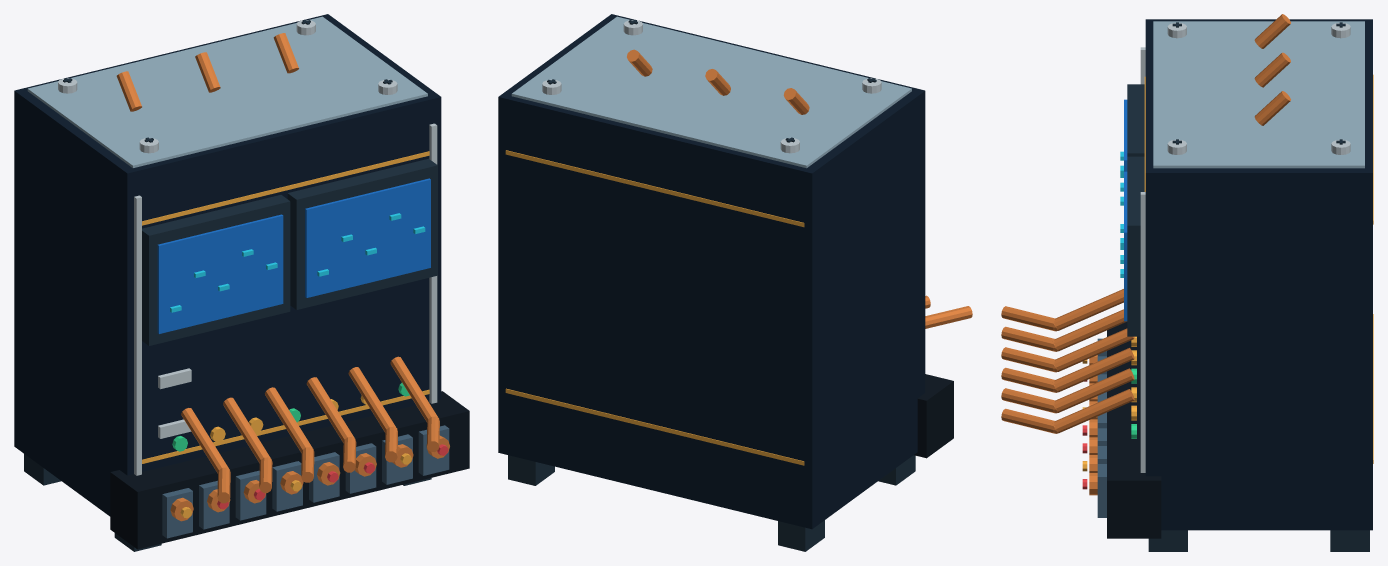
Rendered from 14_L77_MultiZonePressureControlBank.fbx.
The picture shows the model from 3 angles, left to right: view 1: azimuth 30°, elevation 25°; view 2: azimuth 150°, elevation 25°; view 3: azimuth 270°, elevation 25°; orthographic projection.
Visible parts, largest first — view 1: MultiZonePressureControlBank; view 2: MultiZonePressureControlBank; view 3: MultiZonePressureControlBank.
Boxes of the visible parts, <box> form: MultiZonePressureControlBank: <box>14,14,469,551</box>; MultiZonePressureControlBank: <box>498,14,972,551</box>; MultiZonePressureControlBank: <box>1001,14,1373,551</box>.
Size of the model in its own units: 127 by 153 by 123.
